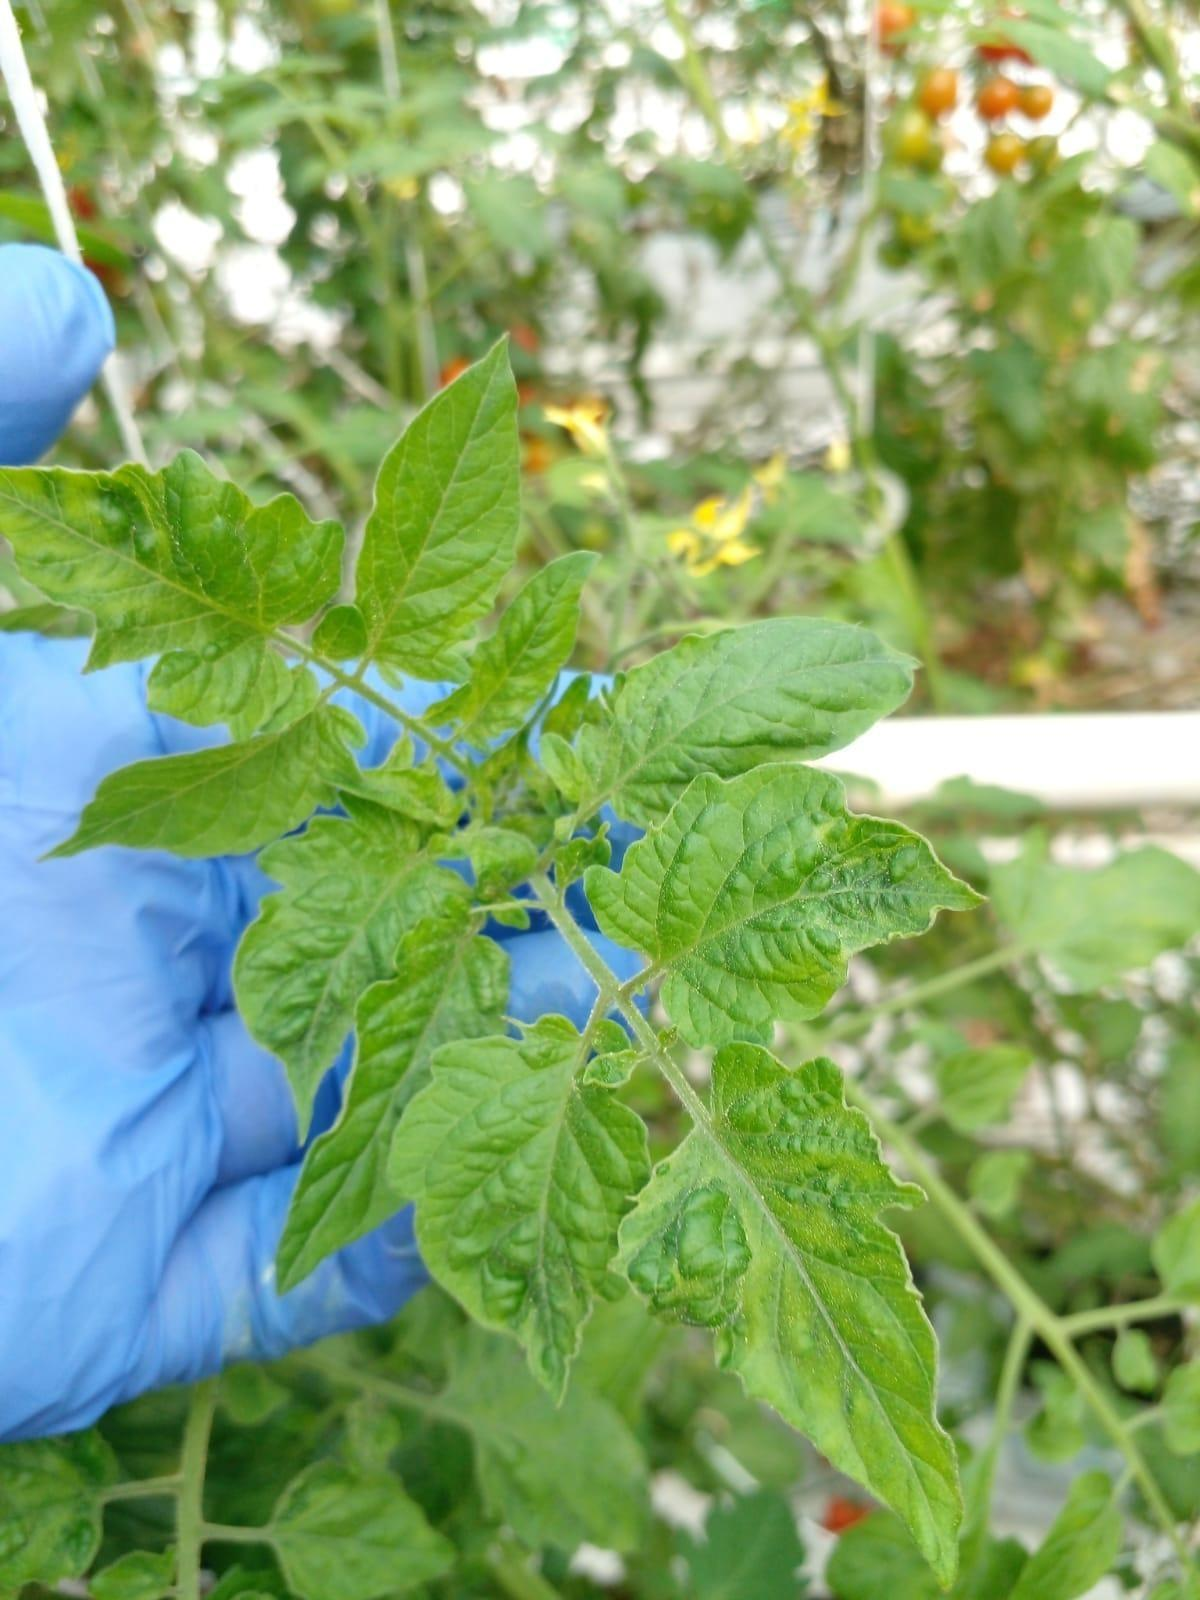Hoja: (353, 338, 518, 678)
Hoja rugoso: (612, 1045, 962, 1576), (584, 763, 977, 1046), (386, 1015, 649, 1400), (0, 451, 340, 736), (278, 900, 509, 1278), (543, 616, 913, 826), (234, 800, 469, 1120), (53, 706, 362, 856), (427, 550, 597, 747)
